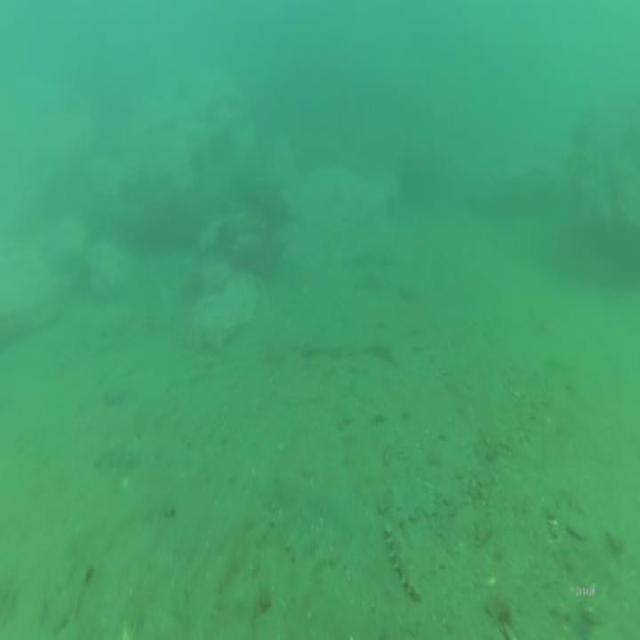holothurian: (383, 514, 424, 605)
